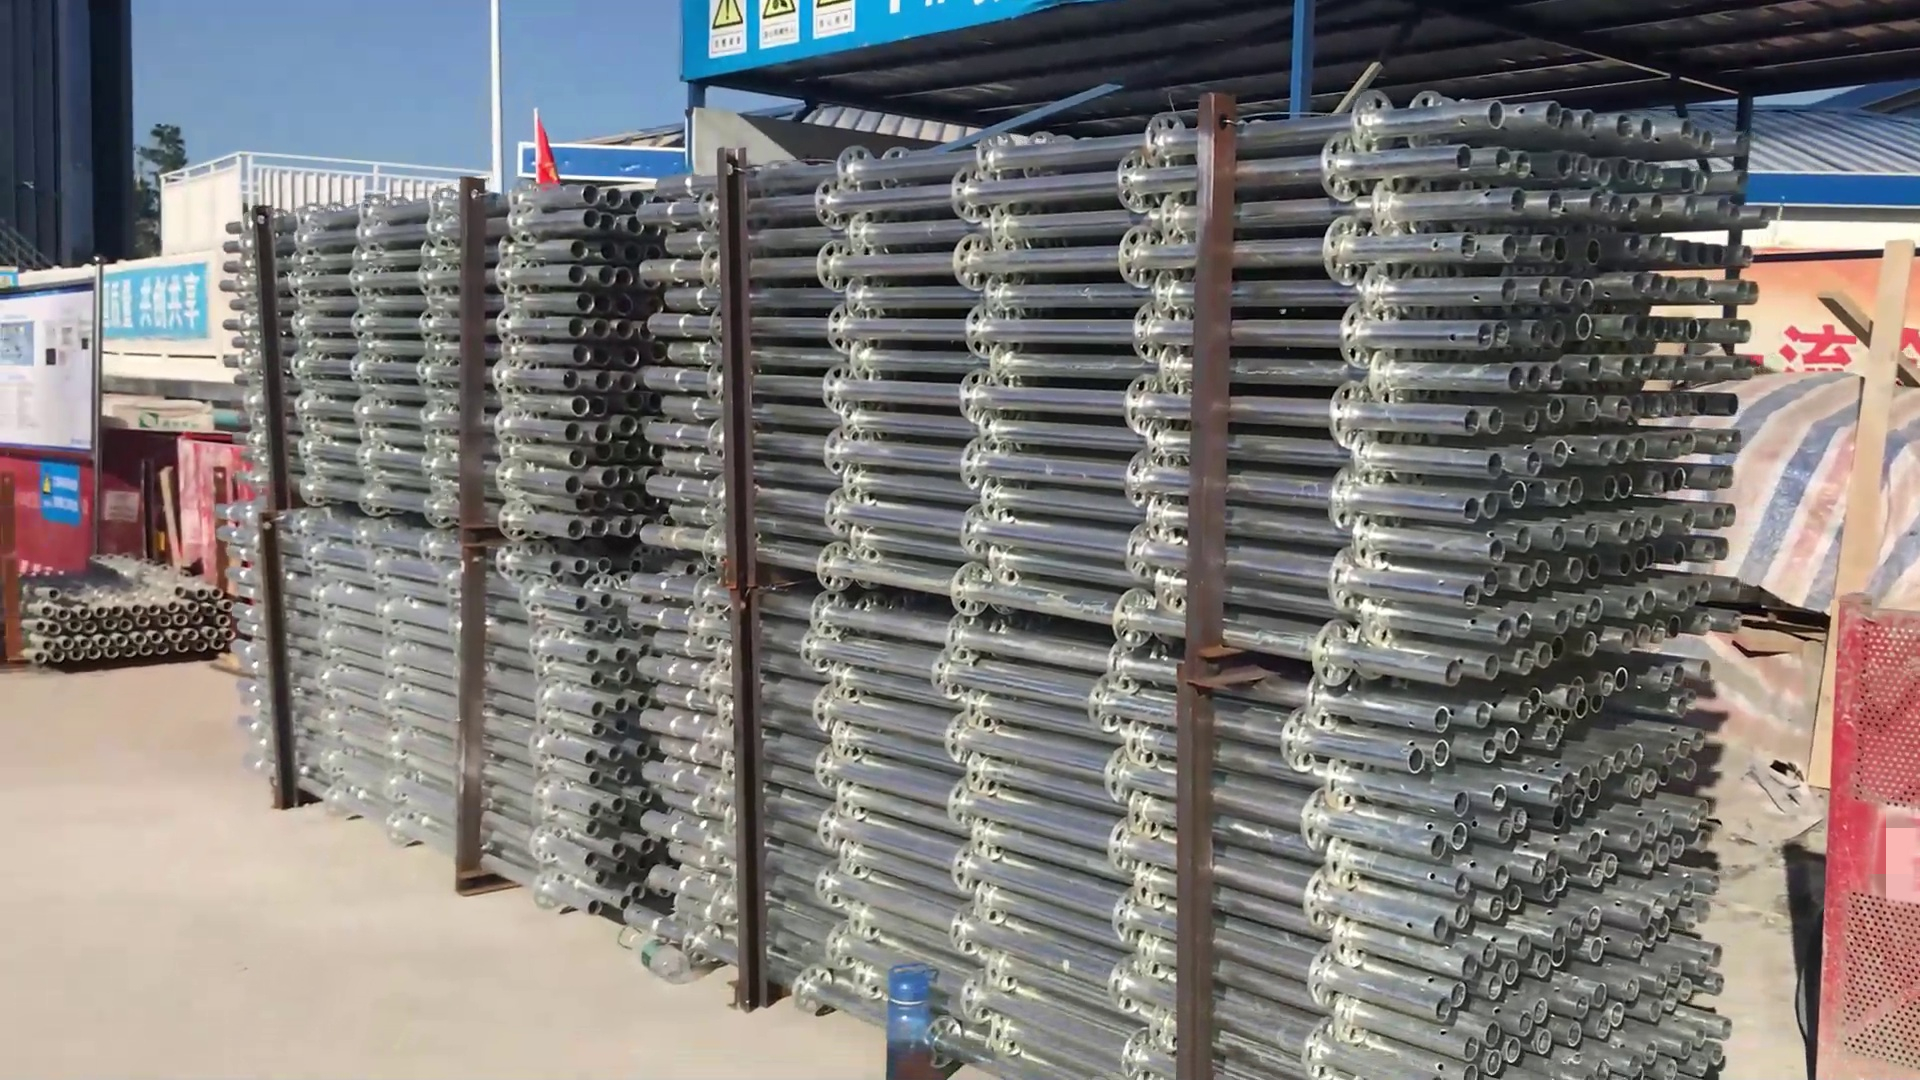fence: (1817, 597, 1920, 1080)
scaffold: (669, 102, 1764, 1080), (208, 175, 651, 901), (26, 556, 240, 665)
slogan: (698, 3, 866, 69), (104, 269, 204, 330), (36, 465, 80, 525)
